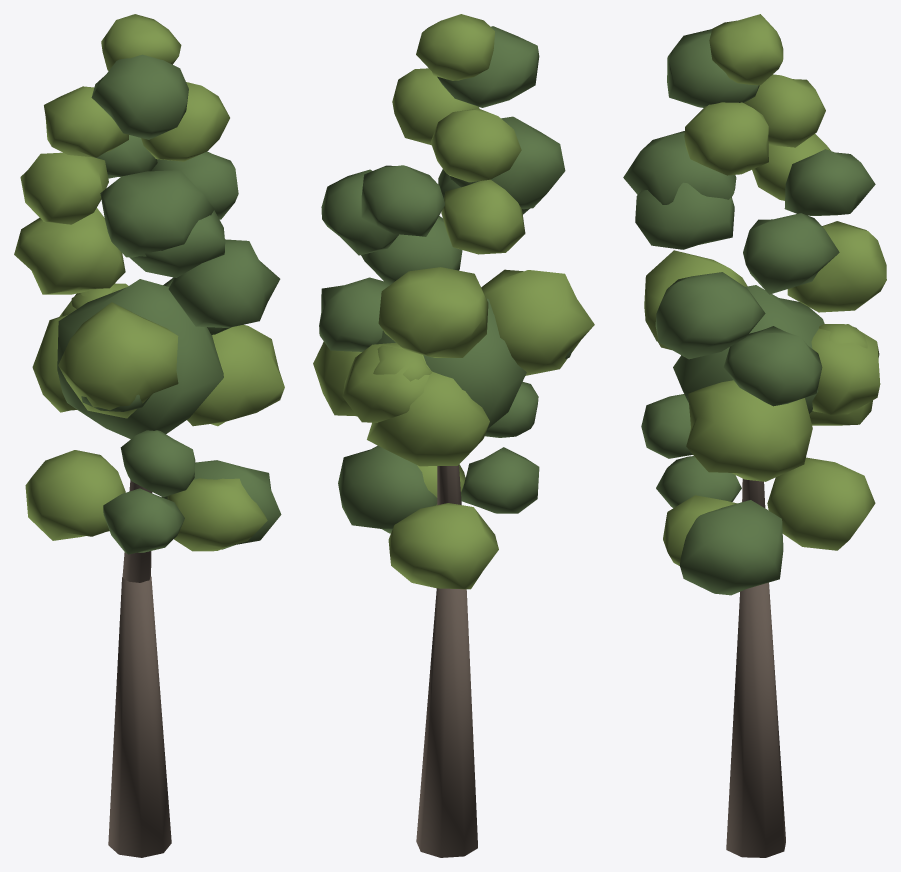
The model's file is node_tree_poplar_0.glb.
The picture shows the model from 3 angles, left to right: view 1: azimuth 30°, elevation 25°; view 2: azimuth 150°, elevation 25°; view 3: azimuth 270°, elevation 25°; orthographic projection.
Parts seen in each view (by area): view 1: cyl, blob.023, blob.014, blob.007, blob.020, blob.008, blob.005, blob.015, blob.002, blob, blob.016, blob.018 (+10 smaller); view 2: cyl, blob.020, blob.014, blob.008, blob.004, blob.011, blob.018, blob.016, blob.023, blob.019, blob.015, blob.013 (+11 smaller); view 3: cyl, blob.002, blob.011, blob.008, blob.005, blob.013, blob.021, blob.020, blob.022, blob.009, blob.019, blob.012 (+13 smaller).
Part boxes in pixels (x1=…): cyl: x1=108, y1=576, x2=171, y2=857; blob.023: x1=57, y1=279, x2=223, y2=439; blob.014: x1=58, y1=302, x2=178, y2=418; blob.007: x1=100, y1=170, x2=214, y2=257; blob.020: x1=14, y1=208, x2=125, y2=294; blob.008: x1=25, y1=450, x2=125, y2=540; blob.005: x1=168, y1=239, x2=280, y2=327; blob.015: x1=91, y1=54, x2=188, y2=139; blob.002: x1=187, y1=324, x2=284, y2=426; blob: x1=167, y1=478, x2=267, y2=551; blob.016: x1=20, y1=152, x2=108, y2=224; blob.018: x1=44, y1=86, x2=128, y2=157; cyl: x1=416, y1=588, x2=477, y2=857; blob.020: x1=378, y1=267, x2=488, y2=357; blob.014: x1=481, y1=269, x2=594, y2=375; blob.008: x1=388, y1=503, x2=498, y2=589; blob.004: x1=367, y1=371, x2=489, y2=466; blob.011: x1=338, y1=445, x2=437, y2=533; blob.018: x1=431, y1=108, x2=521, y2=182; blob.016: x1=441, y1=179, x2=525, y2=254; blob.023: x1=376, y1=298, x2=526, y2=429; blob.019: x1=361, y1=165, x2=444, y2=236; blob.015: x1=437, y1=26, x2=539, y2=107; blob.013: x1=319, y1=277, x2=389, y2=351; cyl: x1=726, y1=582, x2=785, y2=857; blob.002: x1=686, y1=380, x2=812, y2=481; blob.011: x1=679, y1=500, x2=783, y2=595; blob.008: x1=767, y1=457, x2=875, y2=550; blob.005: x1=655, y1=272, x2=765, y2=359; blob.013: x1=723, y1=326, x2=822, y2=406; blob.021: x1=743, y1=213, x2=839, y2=294; blob.020: x1=787, y1=221, x2=886, y2=312; blob.022: x1=684, y1=102, x2=768, y2=175; blob.009: x1=635, y1=182, x2=734, y2=249; blob.019: x1=784, y1=149, x2=875, y2=215; blob.012: x1=811, y1=324, x2=880, y2=414.
Bounding box in the file's own units: 2.91 × 9.7 × 2.82.
